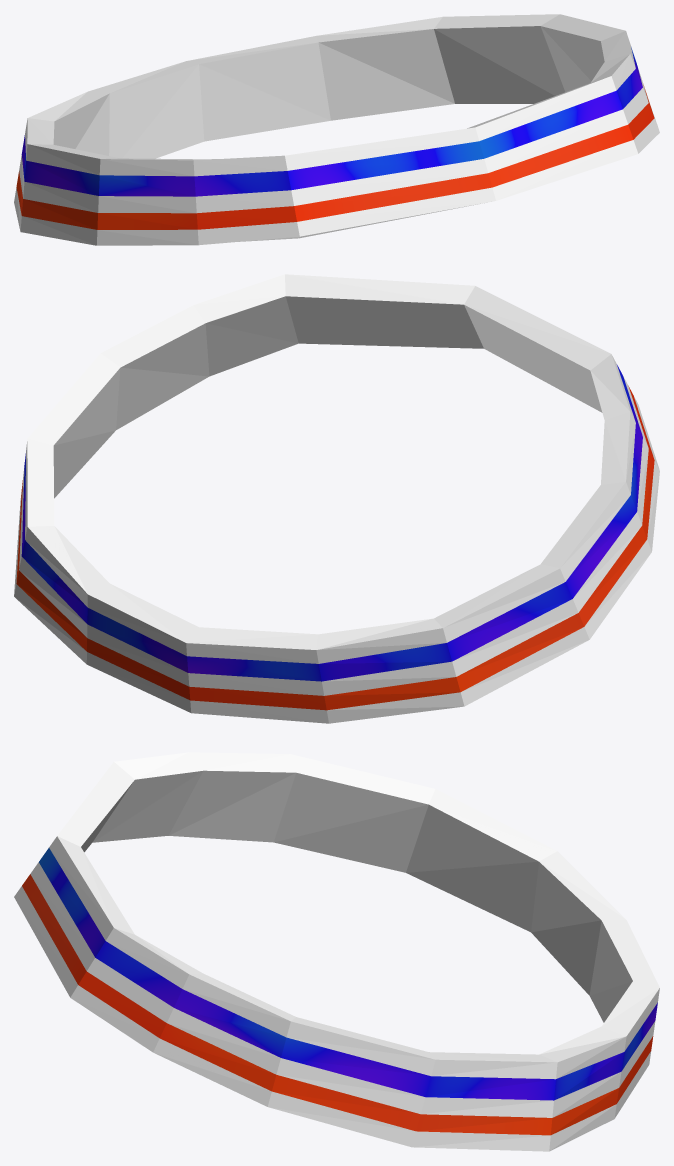
Rendered from Sweat Band.fbx.
3 views of the same model, one above another, from view 1: azimuth 30°, elevation 25°; view 2: azimuth 150°, elevation 25°; view 3: azimuth 270°, elevation 25° (orthographic). The views are drawn at different scales.
Parts seen in each view (by area): view 1: Cube; view 2: Cube; view 3: Cube.
Boxes of the visible parts, x1,y1,x2,y2 form: Cube: [14, 14, 659, 245]; Cube: [14, 274, 659, 723]; Cube: [14, 752, 659, 1151].
Size of the model in its own units: 26.05 by 9.59 by 24.57.
